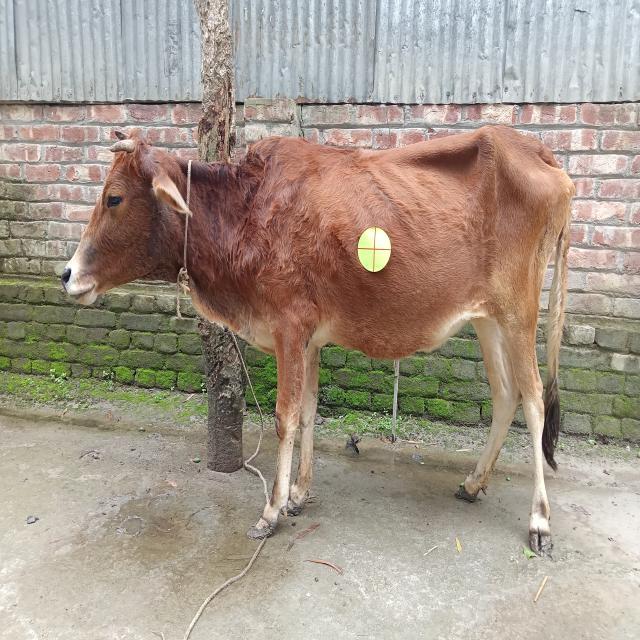badan_sapi: (238, 140, 569, 345)
sapi: (49, 112, 610, 562)
